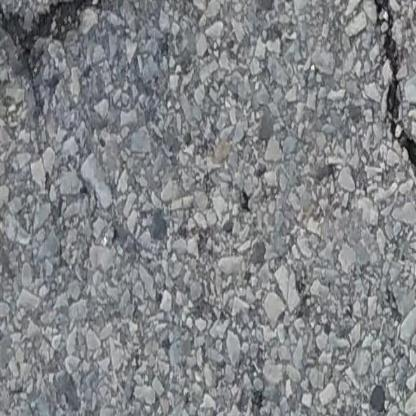Cracks: (0, 0, 156, 101), (370, 0, 416, 205)
